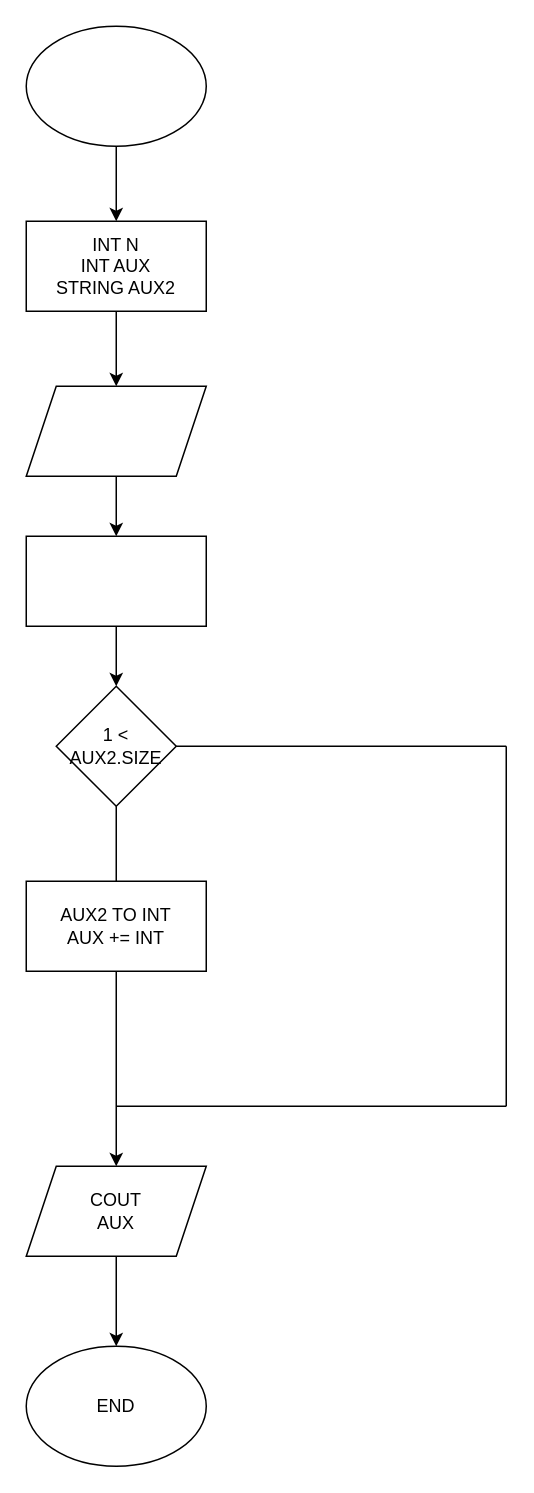
Some shapes in this 534 by 1493 pixel diagram are drawn without their labels. Each missing label, with the box of its shape:
CIN N: (25, 385, 206, 476)
N TO STRING AUX2: (25, 535, 206, 626)
START: (25, 25, 206, 146)
